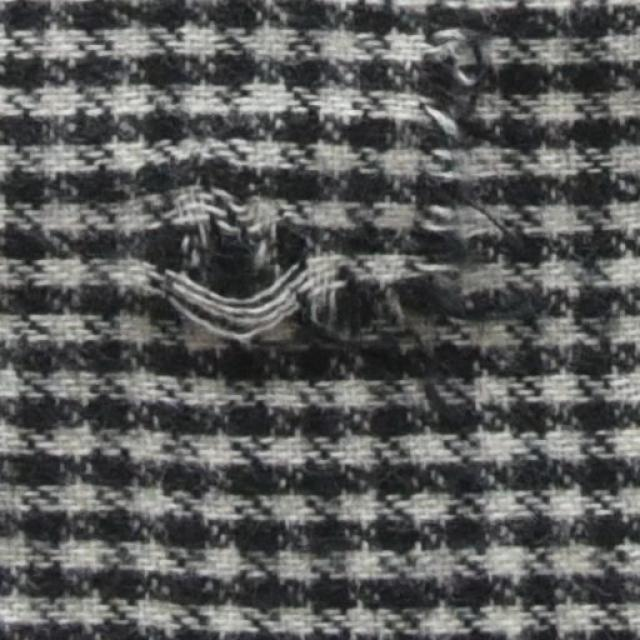Snag: (117, 0, 504, 359)
